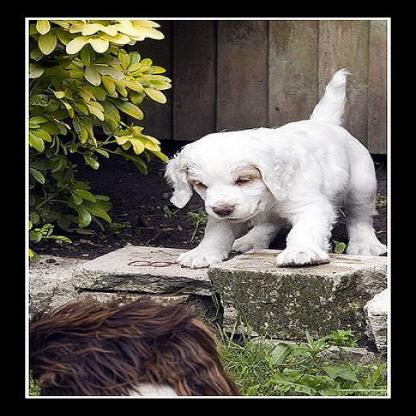clumber: (157, 64, 387, 268)
